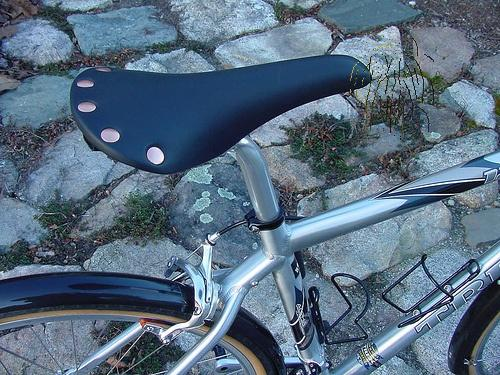tampered: (348, 16, 434, 184)
